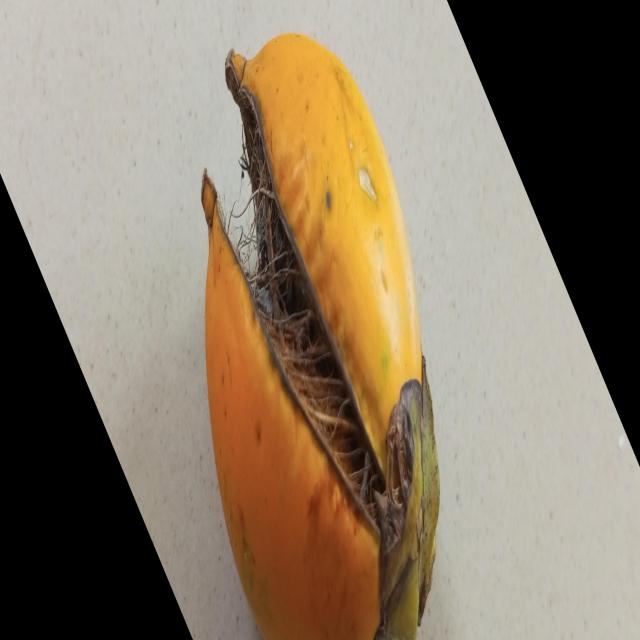damaged: (201, 33, 439, 640)
